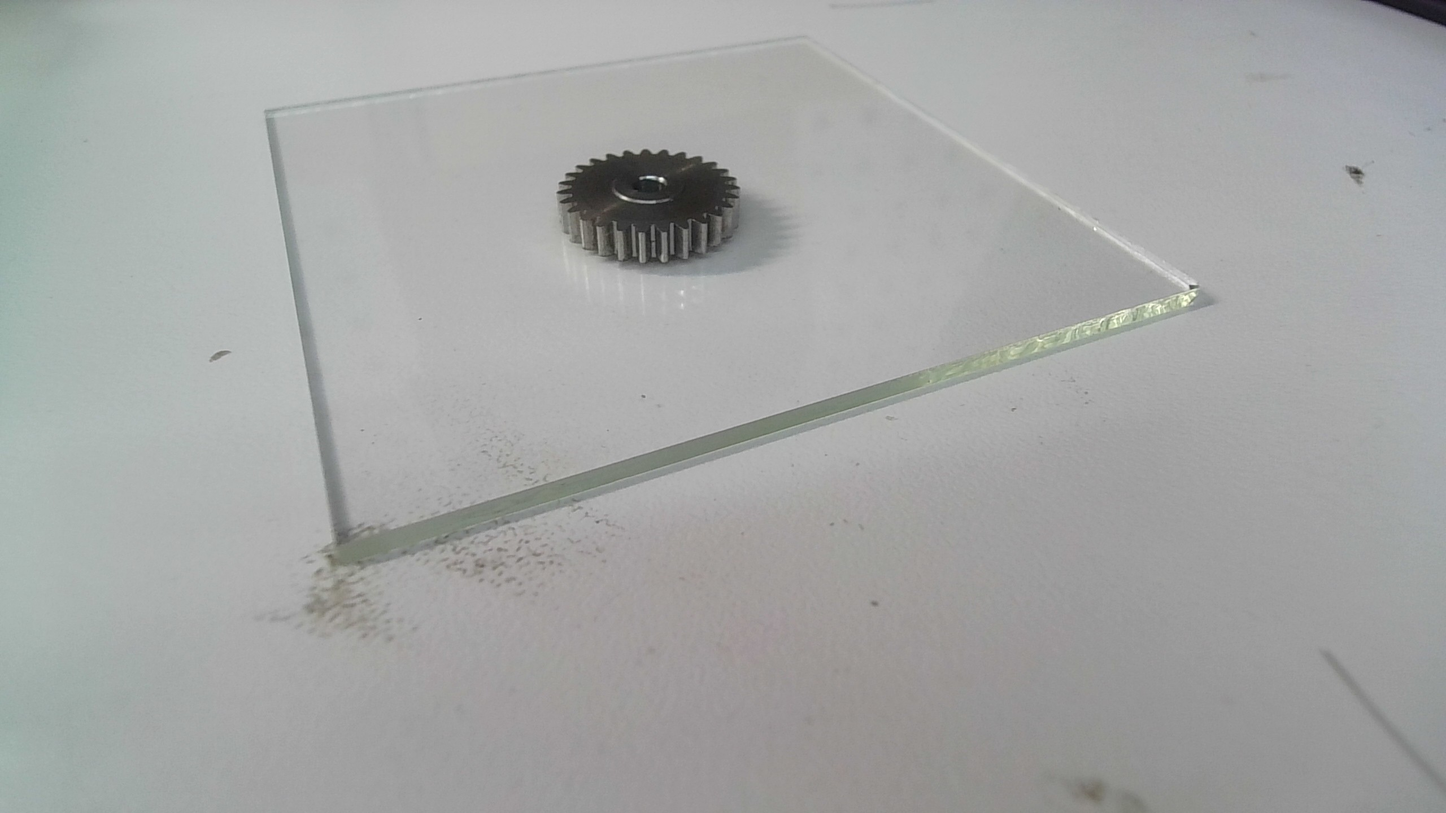gear: (553, 145, 744, 267)
